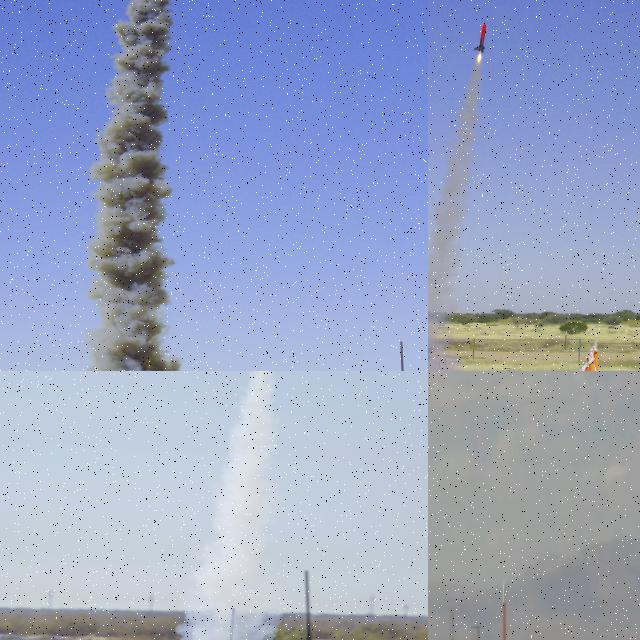Rocket: (499, 580, 508, 640), (474, 24, 488, 53)
